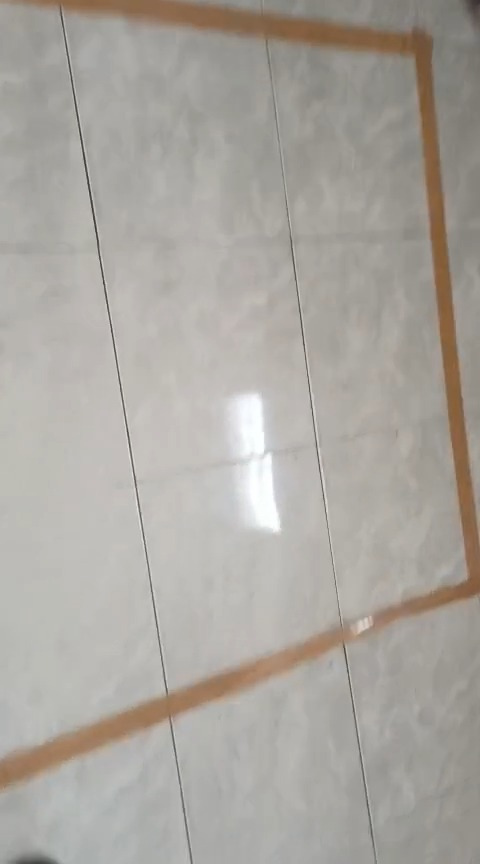floor marking: (0, 0, 479, 787)
